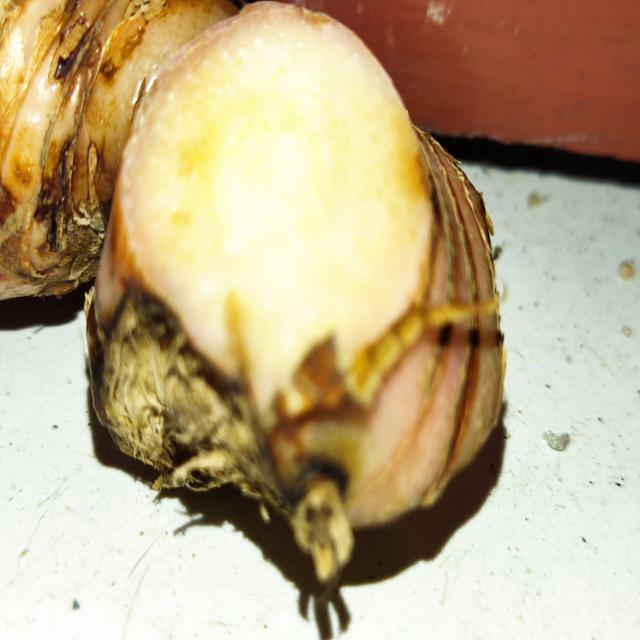ginger: (0, 0, 484, 532)
